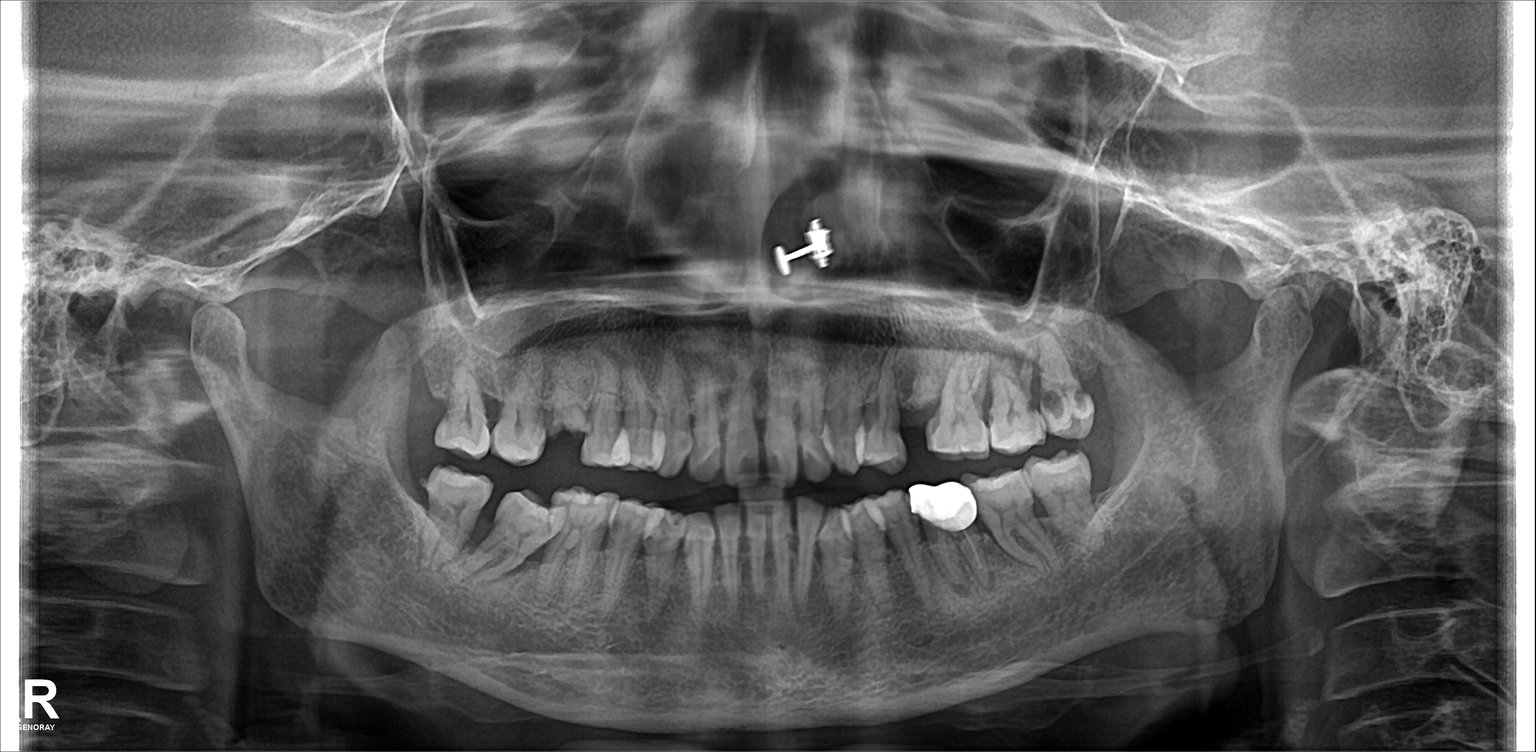Dental Caries: (1039, 378, 1097, 425), (737, 447, 787, 478)
Endodontically Treated Tooth: (914, 486, 980, 590)
Missing Tooth: (1089, 443, 1135, 515), (410, 346, 441, 441)
Retained Root: (542, 369, 583, 450)
